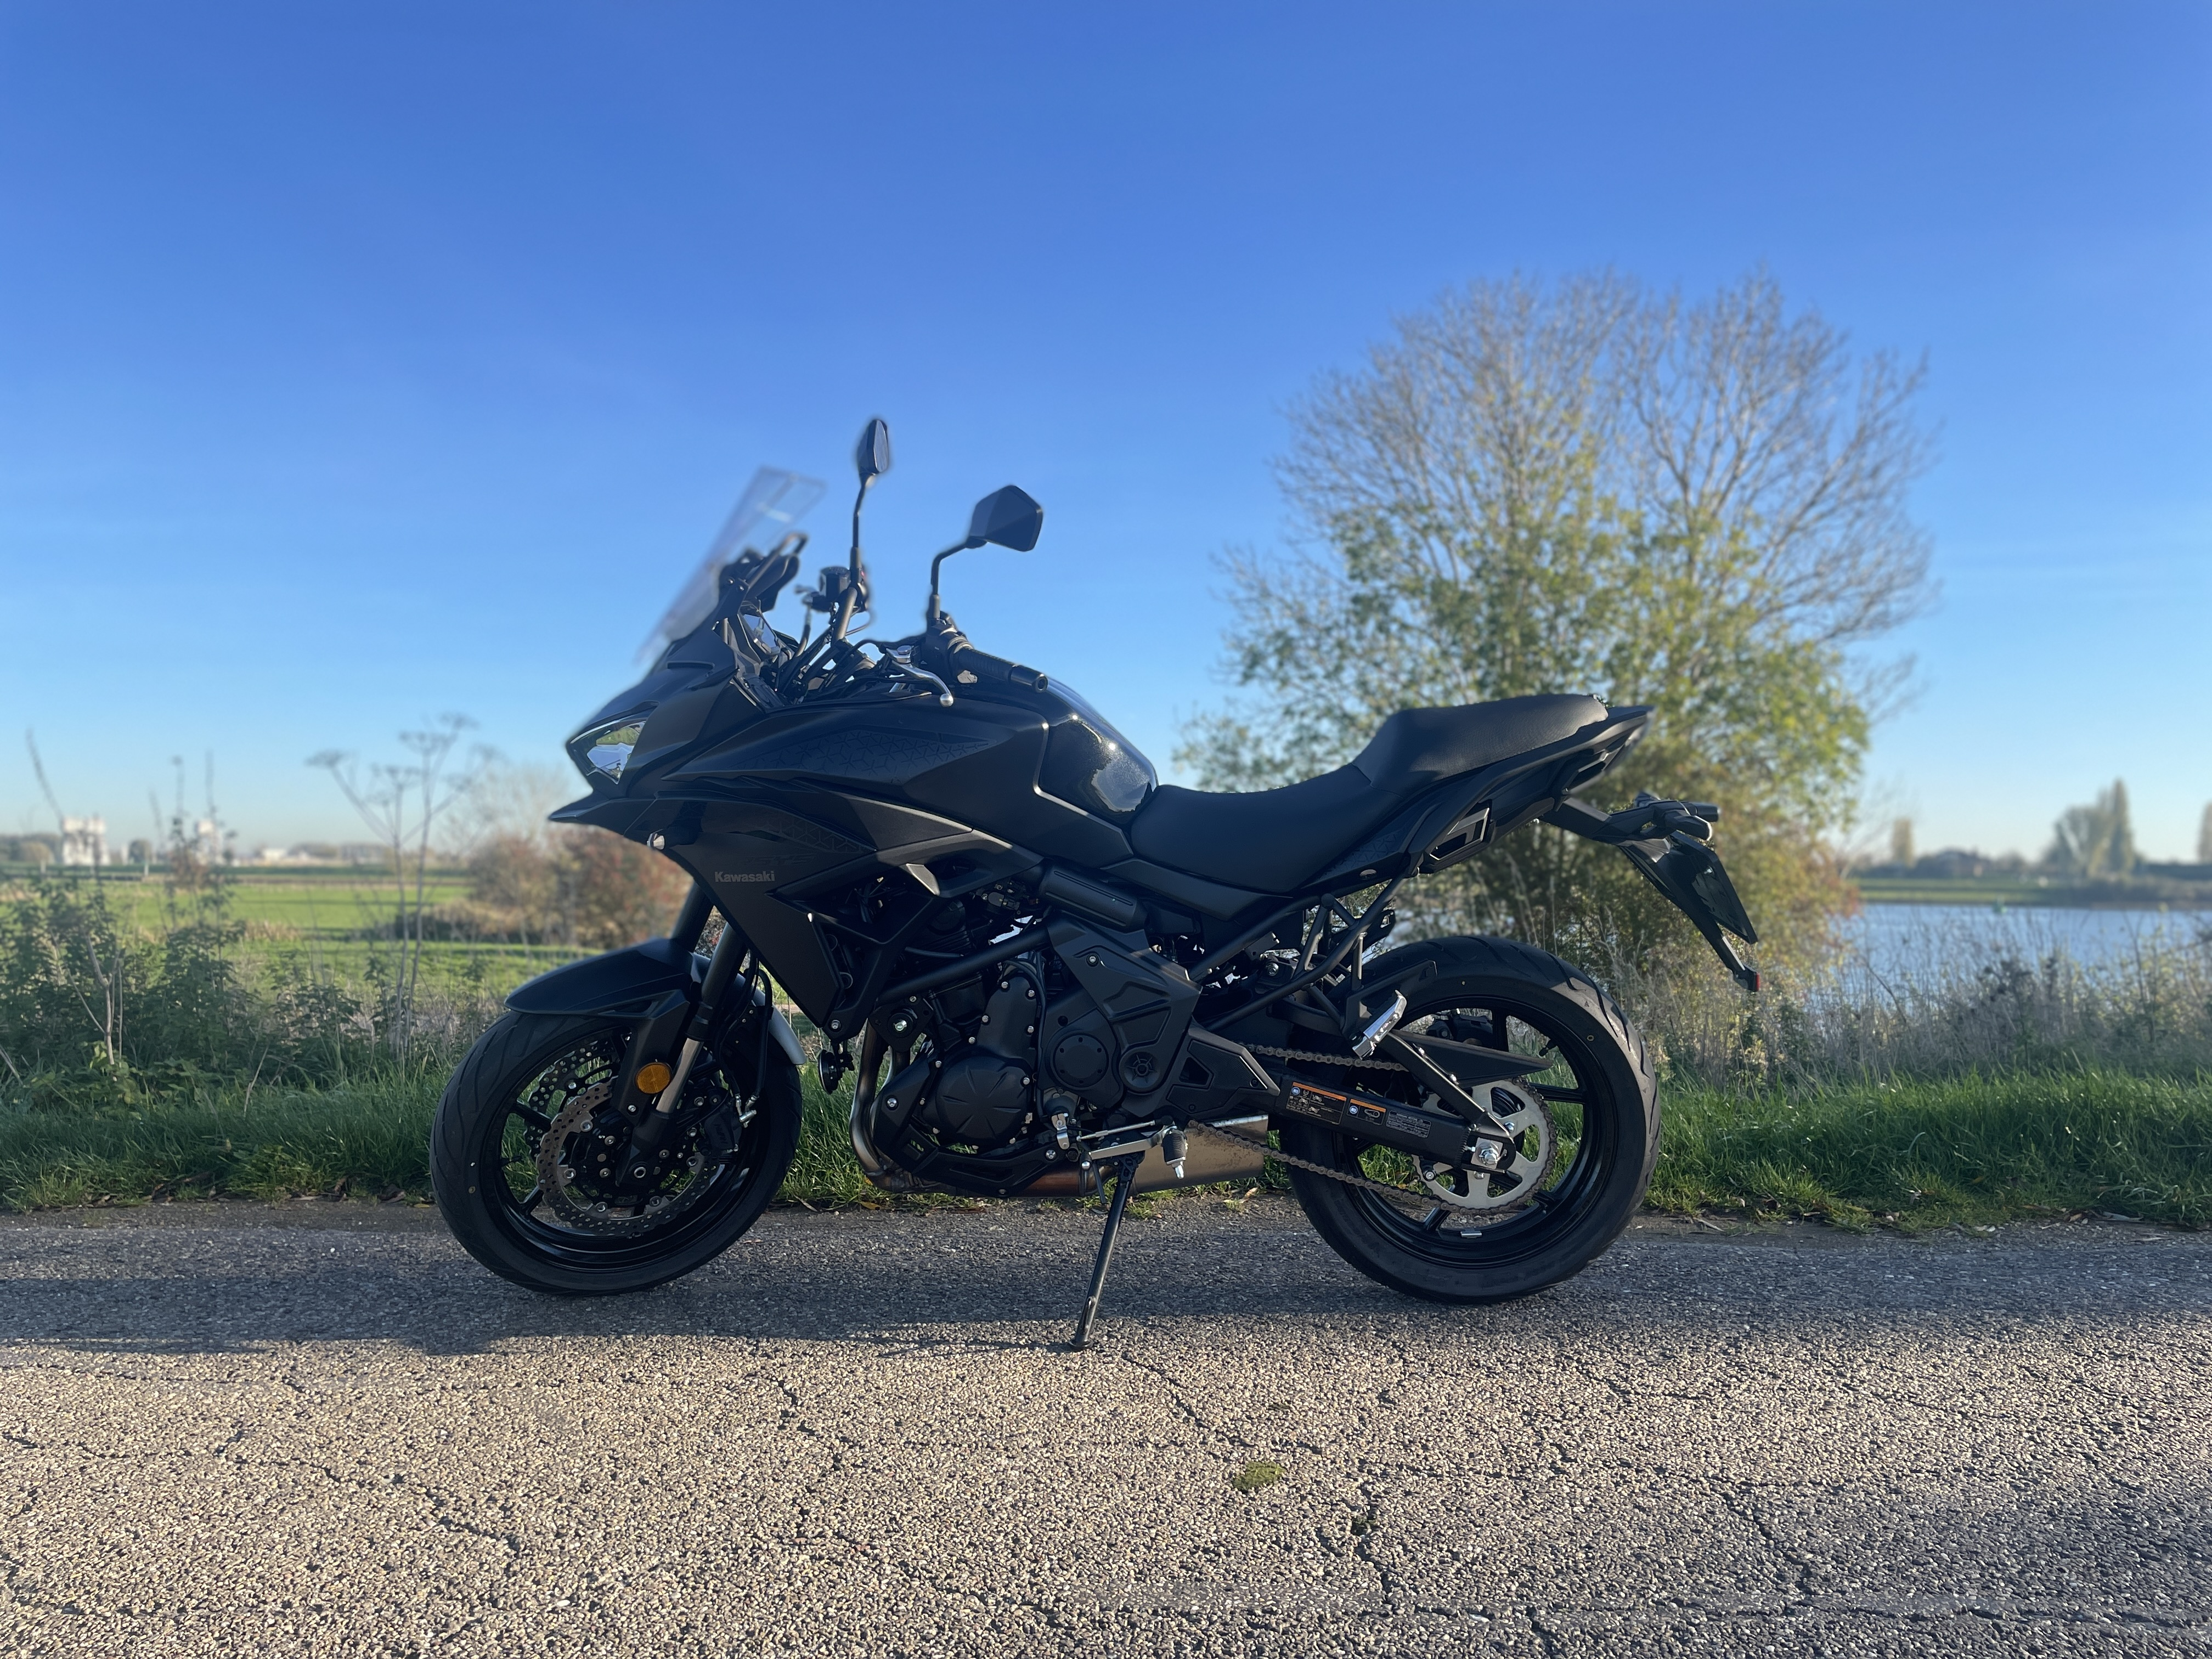motorcycle: (430, 403, 1766, 1309)
